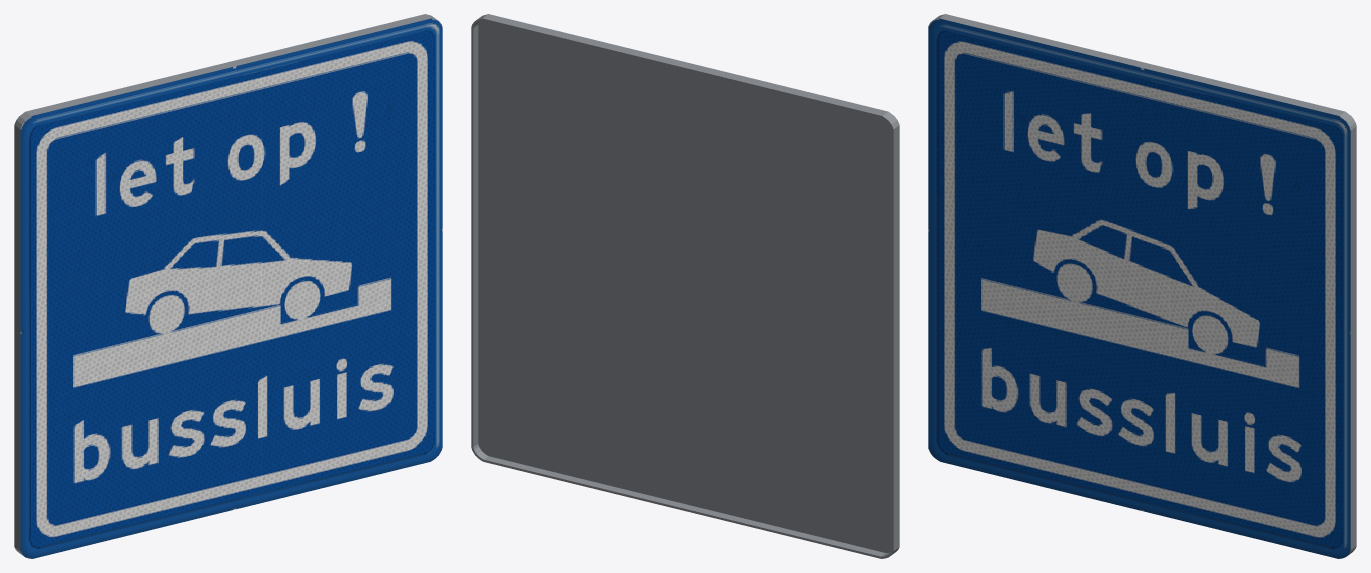
3 renders of one model, left to right at view 1: azimuth 30°, elevation 25°; view 2: azimuth 150°, elevation 25°; view 3: azimuth 330°, elevation 25°, orthographic.
Visible parts, largest first — view 1: cat_bec5202043c17989; view 2: cat_bec5202043c17989; view 3: cat_bec5202043c17989.
Part boxes in pixels (box(x1,y1,x2,y2)): cat_bec5202043c17989: box(14, 14, 442, 558); cat_bec5202043c17989: box(471, 14, 899, 558); cat_bec5202043c17989: box(928, 14, 1356, 558).
Size of the model in its own units: 0.6 by 0.015 by 0.6014.
2 materials, 1 textured.
